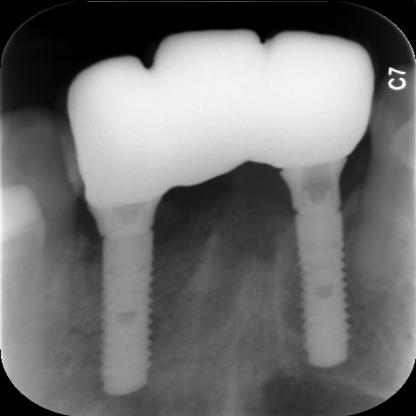ITI: (92, 206, 168, 404), (294, 202, 354, 372)
